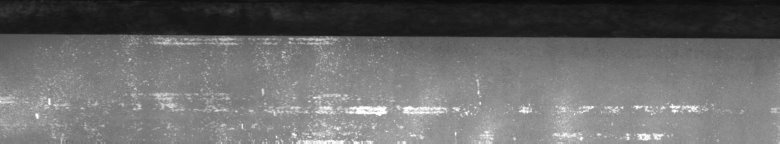kb: (4, 9, 776, 136)
